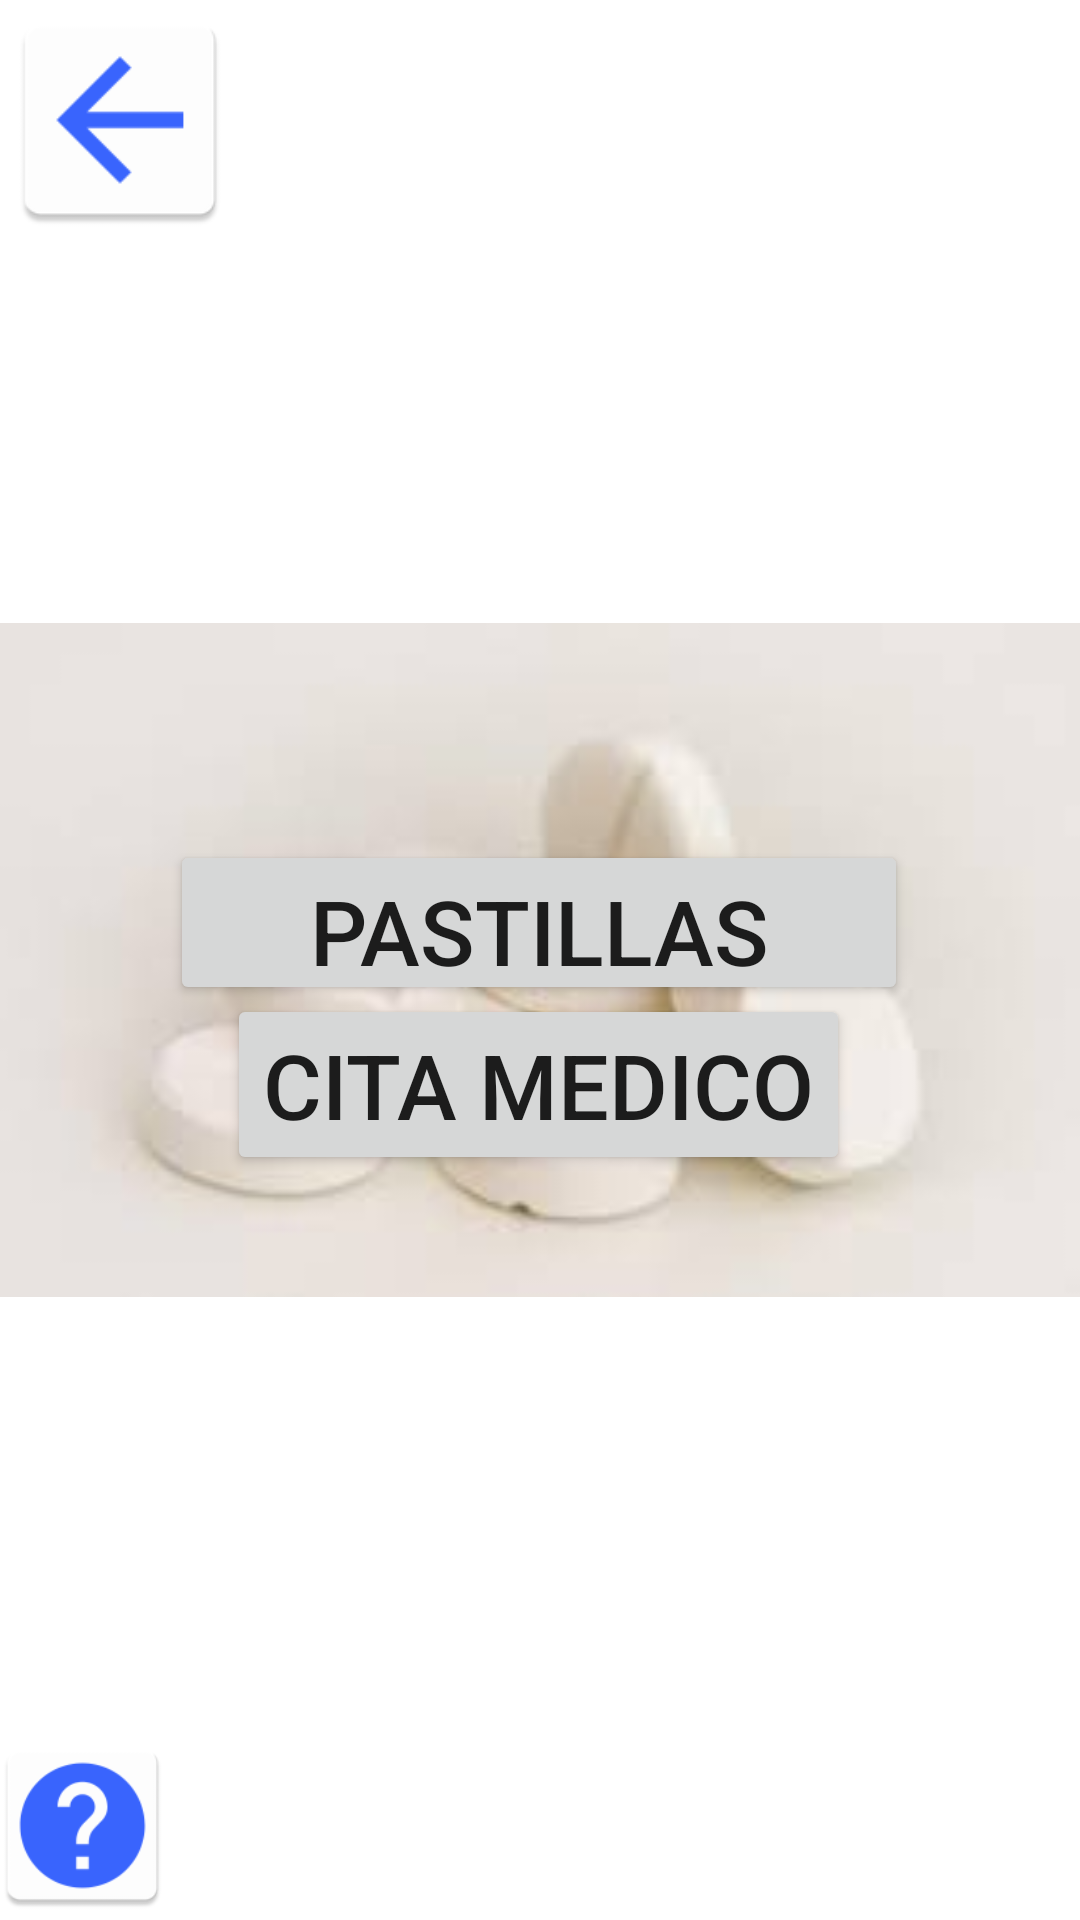

Icons on this 1080px×1920px Android screen, each with the point to tap as [x,y]:
back: [120,128]
help: [83,1832]
